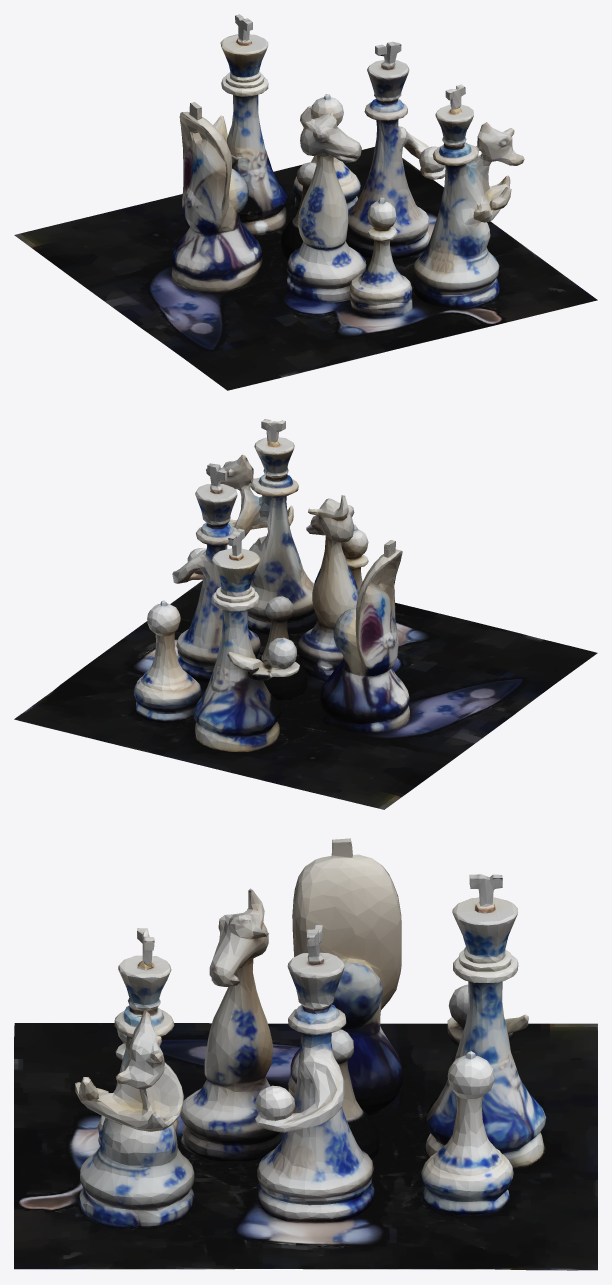
Rendered from porcelain-chess-piece-japanese.jpeg.glb.
3 views of the same model, one above another, from view 1: azimuth 30°, elevation 25°; view 2: azimuth 150°, elevation 25°; view 3: azimuth 270°, elevation 25° (orthographic). The views are drawn at different scales.
Parts seen in each view (by area): view 1: world; view 2: world; view 3: world.
Boxes of the visible parts, <box> form: world: <box>14,14,597,390</box>; world: <box>14,419,597,809</box>; world: <box>14,838,597,1270</box>.
Size of the model in its own units: 1 by 0.522 by 1.
1 material, 1 textured.
